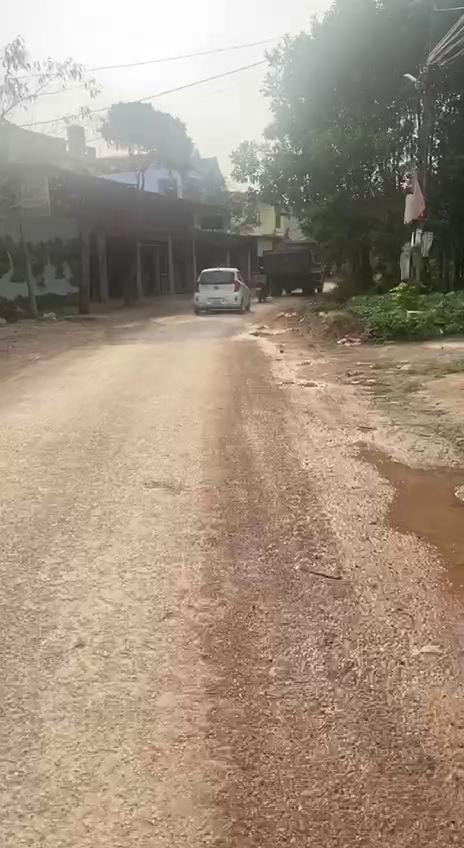pothole: (342, 431, 464, 609)
